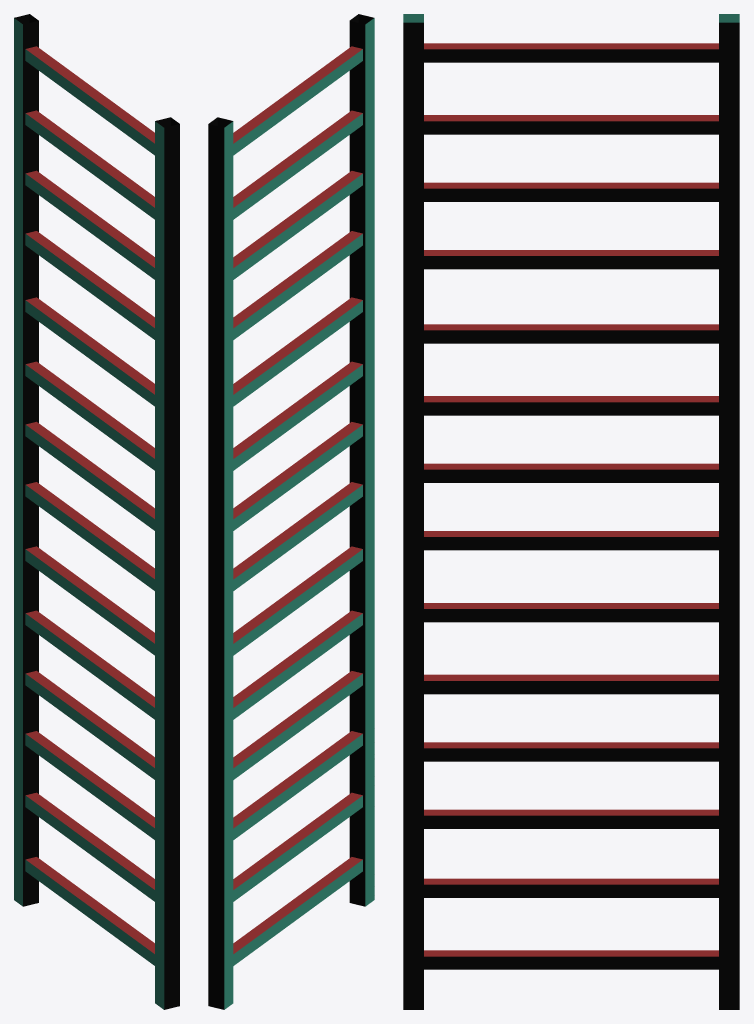
The model's file is echelle_balcon.FBX.
3 views of the same model, side by side, from view 1: azimuth 30°, elevation 25°; view 2: azimuth 150°, elevation 25°; view 3: azimuth 270°, elevation 25° (orthographic). The views are drawn at different scales.
Parts seen in each view (by area): view 1: echelle; view 2: echelle; view 3: echelle.
Boxes of the visible parts, box(x1,y1,x2,y2) form: echelle: box(14, 14, 179, 1009); echelle: box(208, 14, 374, 1009); echelle: box(403, 14, 739, 1009).
Bounding box in the file's own units: 7 × 373 × 115.
